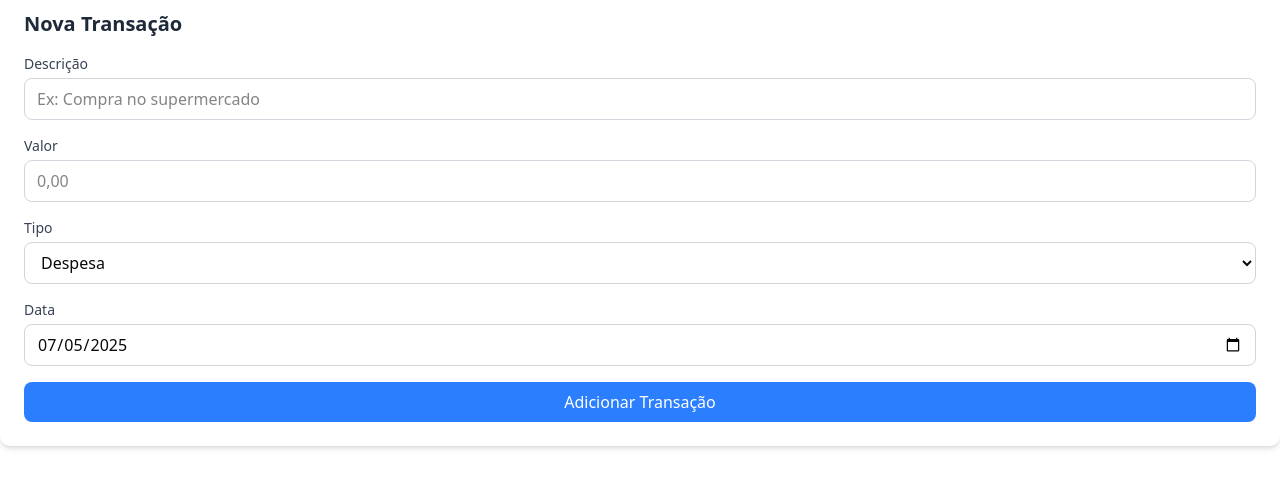
Scenario: TransactionForm › shows validation error for empty amount
In the field labelled "Descrição": {"x": 640, "y": 99} [24, 78, 1256, 120], type "Test transaction"
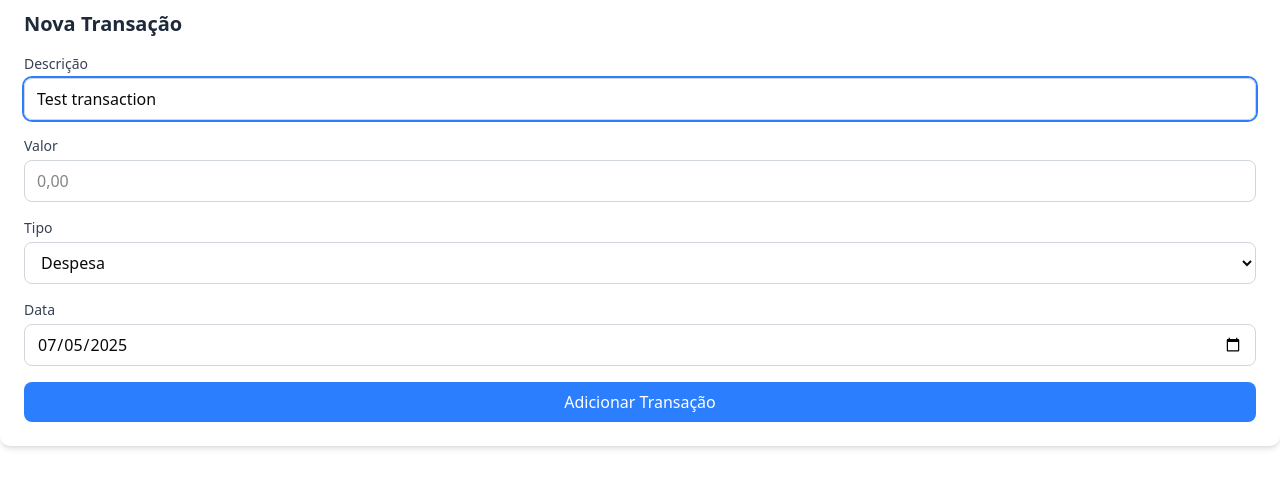
Clear the number field labelled "Valor": {"x": 640, "y": 181} [24, 160, 1256, 202]
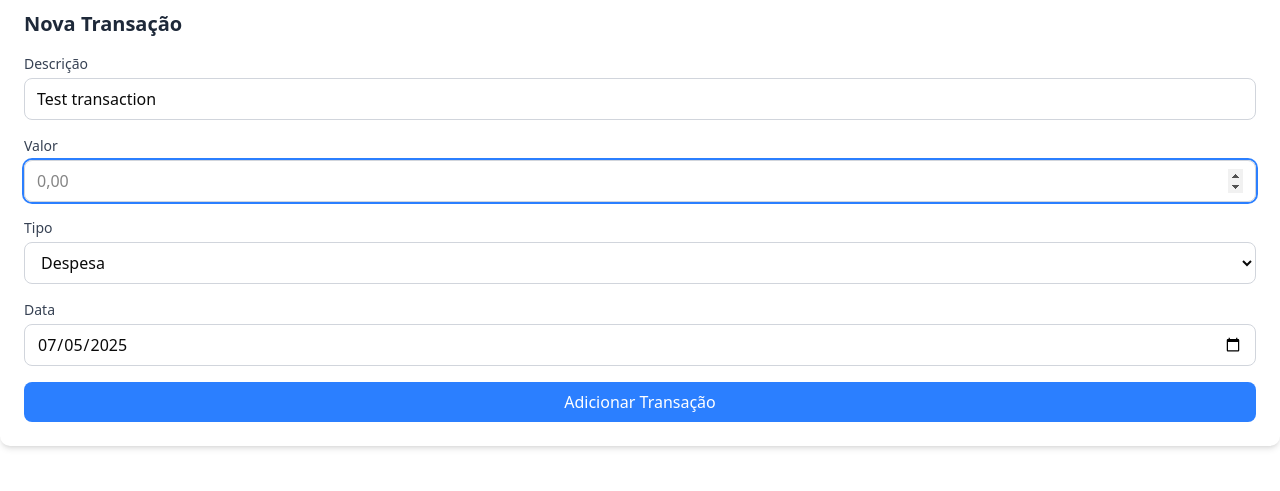
Click the button "Adicionar Transação": {"x": 640, "y": 402} [24, 382, 1256, 422]
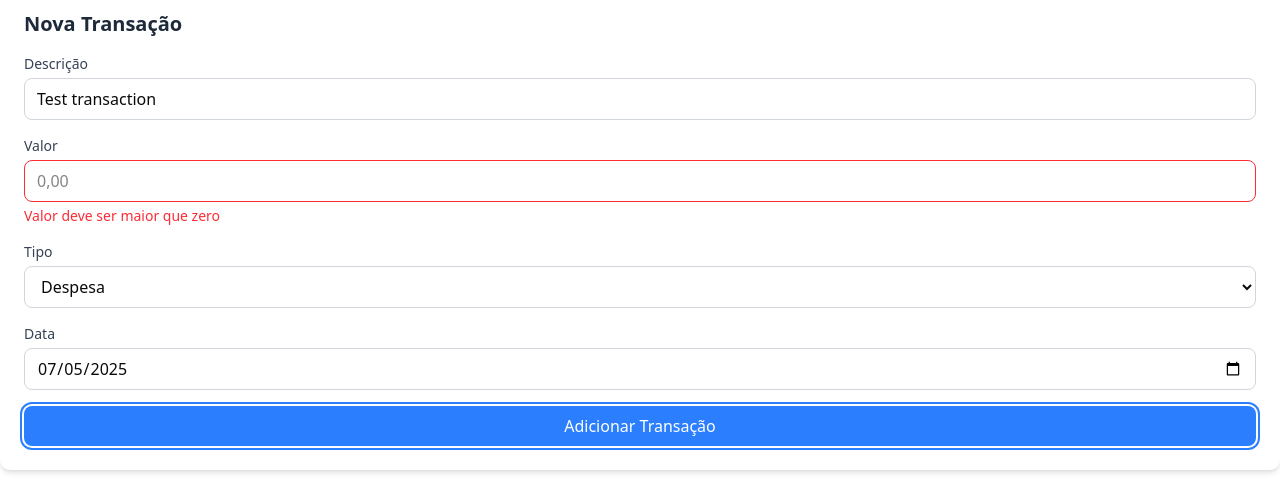
Expected: the text "Valor deve ser maior que zero" is shown, [24, 206, 220, 225]
